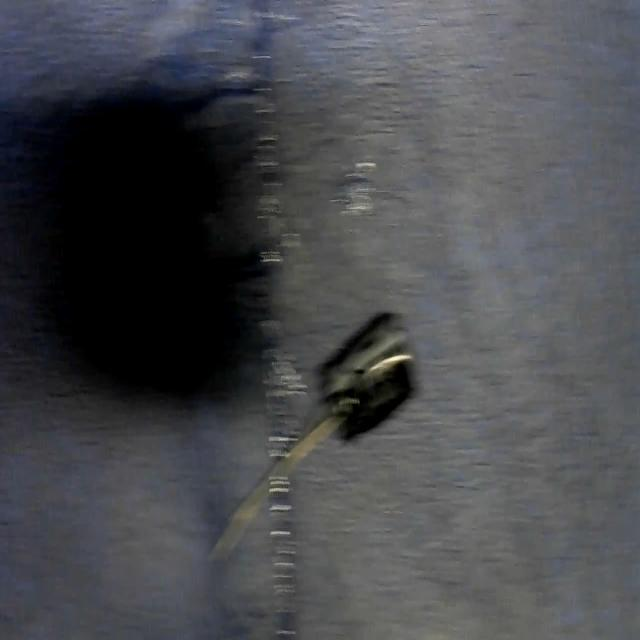capacitor: (213, 313, 416, 567)
